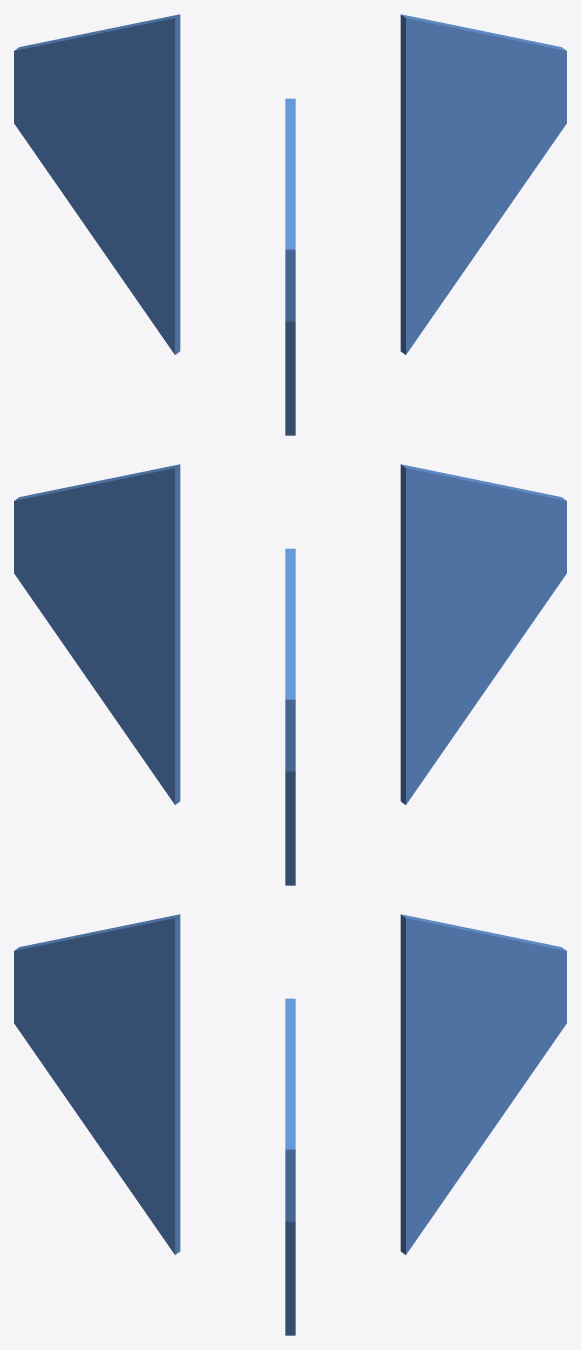
File: fins_tri.glb
3 renders of one model, top to bottom at view 1: azimuth 30°, elevation 25°; view 2: azimuth 150°, elevation 25°; view 3: azimuth 270°, elevation 25°, orthographic.
Parts seen in each view (by area): view 1: fins_tri_1, fins_tri_0, fins_tri_2; view 2: fins_tri_2, fins_tri_0, fins_tri_1; view 3: fins_tri_1, fins_tri_2, fins_tri_0.
Part boxes in pixels (box(x1,y1,x2,y2)): fins_tri_1: box(14, 14, 180, 354); fins_tri_0: box(400, 14, 566, 354); fins_tri_2: box(285, 98, 295, 435); fins_tri_2: box(400, 464, 566, 804); fins_tri_0: box(14, 464, 180, 804); fins_tri_1: box(285, 548, 295, 885); fins_tri_1: box(400, 914, 566, 1254); fins_tri_2: box(14, 914, 180, 1254); fins_tri_0: box(285, 998, 295, 1335).
Bounding box in the file's own units: 3.6 × 2.8 × 4.16.
